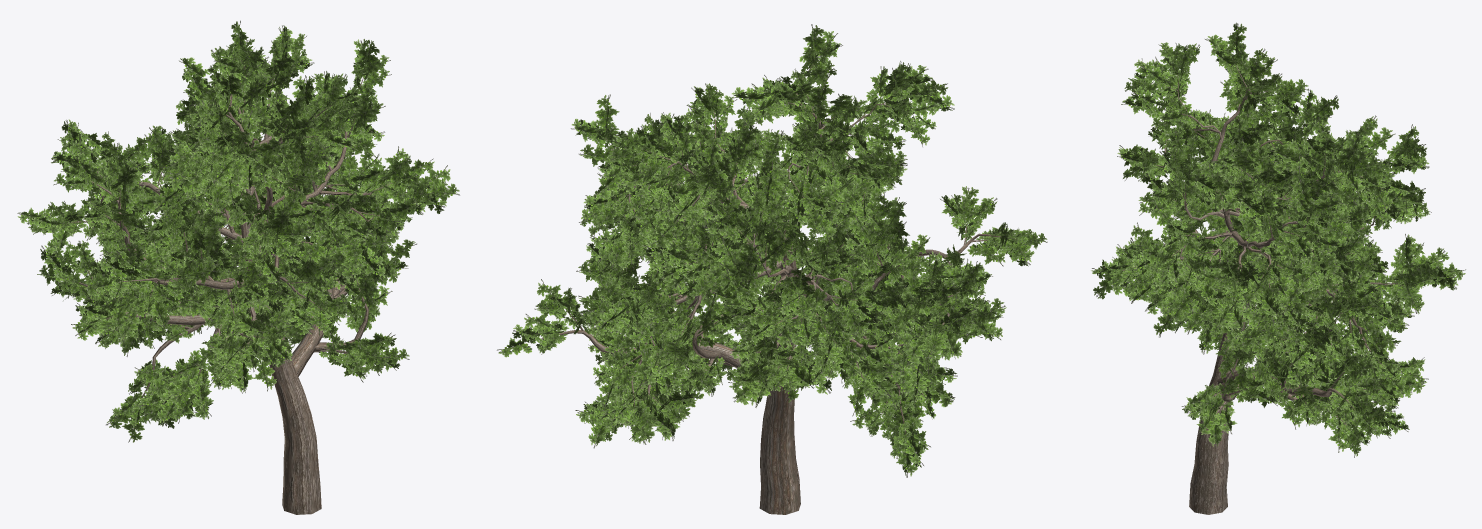
The model's file is eztree-silver-maple-damp-c.glb.
3 views of the same model, side by side, from view 1: azimuth 30°, elevation 25°; view 2: azimuth 150°, elevation 25°; view 3: azimuth 270°, elevation 25° (orthographic). The views are drawn at different scales.
Visible parts, largest first — view 1: eztree-silver-maple-damp-c; view 2: eztree-silver-maple-damp-c; view 3: eztree-silver-maple-damp-c.
Boxes of the visible parts, <box> form: eztree-silver-maple-damp-c: <box>17,20,459,514</box>; eztree-silver-maple-damp-c: <box>497,24,1047,514</box>; eztree-silver-maple-damp-c: <box>1091,22,1465,514</box>.
Size of the model in its own units: 70.97 by 76.17 by 57.44.
2 materials, 2 textured.
